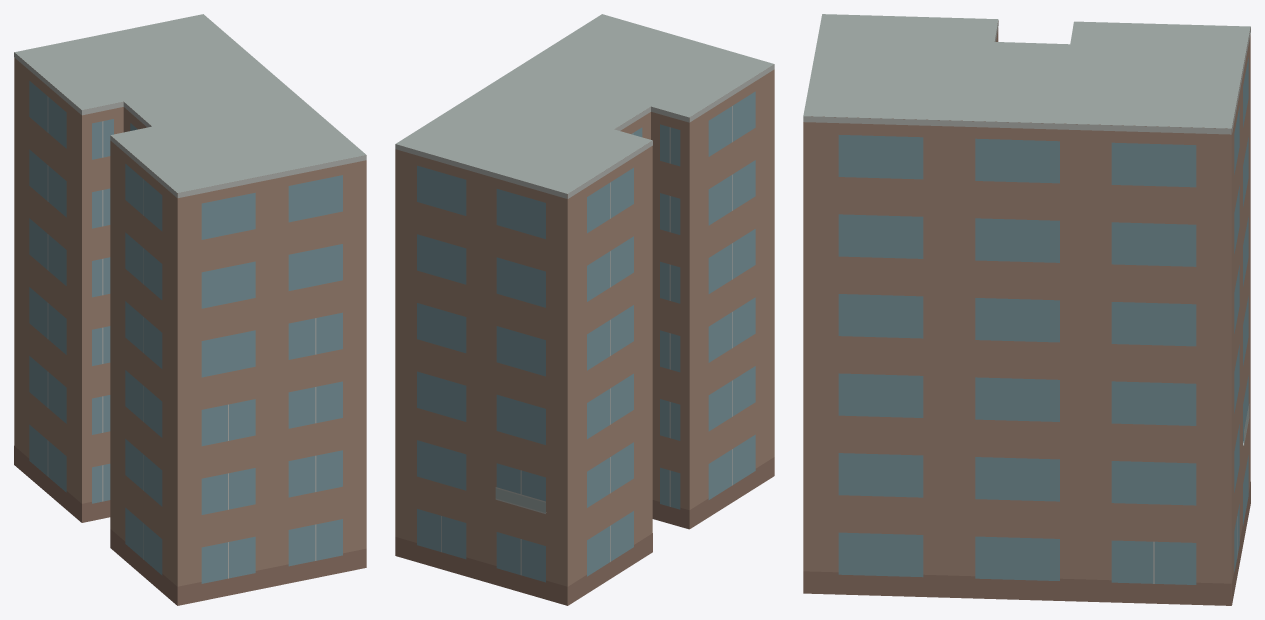
Rendered from survey-upis-32824811.glb.
The picture shows the model from 3 angles, left to right: view 1: azimuth 30°, elevation 25°; view 2: azimuth 150°, elevation 25°; view 3: azimuth 270°, elevation 25°; orthographic projection. The views are drawn at different scales.
Visible parts, largest first — view 1: survey-upis-32824811.tmp; view 2: survey-upis-32824811.tmp; view 3: survey-upis-32824811.tmp.
Part boxes in pixels (left/top/right/bottom): survey-upis-32824811.tmp: left=14, top=14, right=366, bottom=605; survey-upis-32824811.tmp: left=395, top=14, right=774, bottom=605; survey-upis-32824811.tmp: left=803, top=14, right=1250, bottom=605.
Size of the model in its own units: 10.07 by 19.55 by 16.62.
